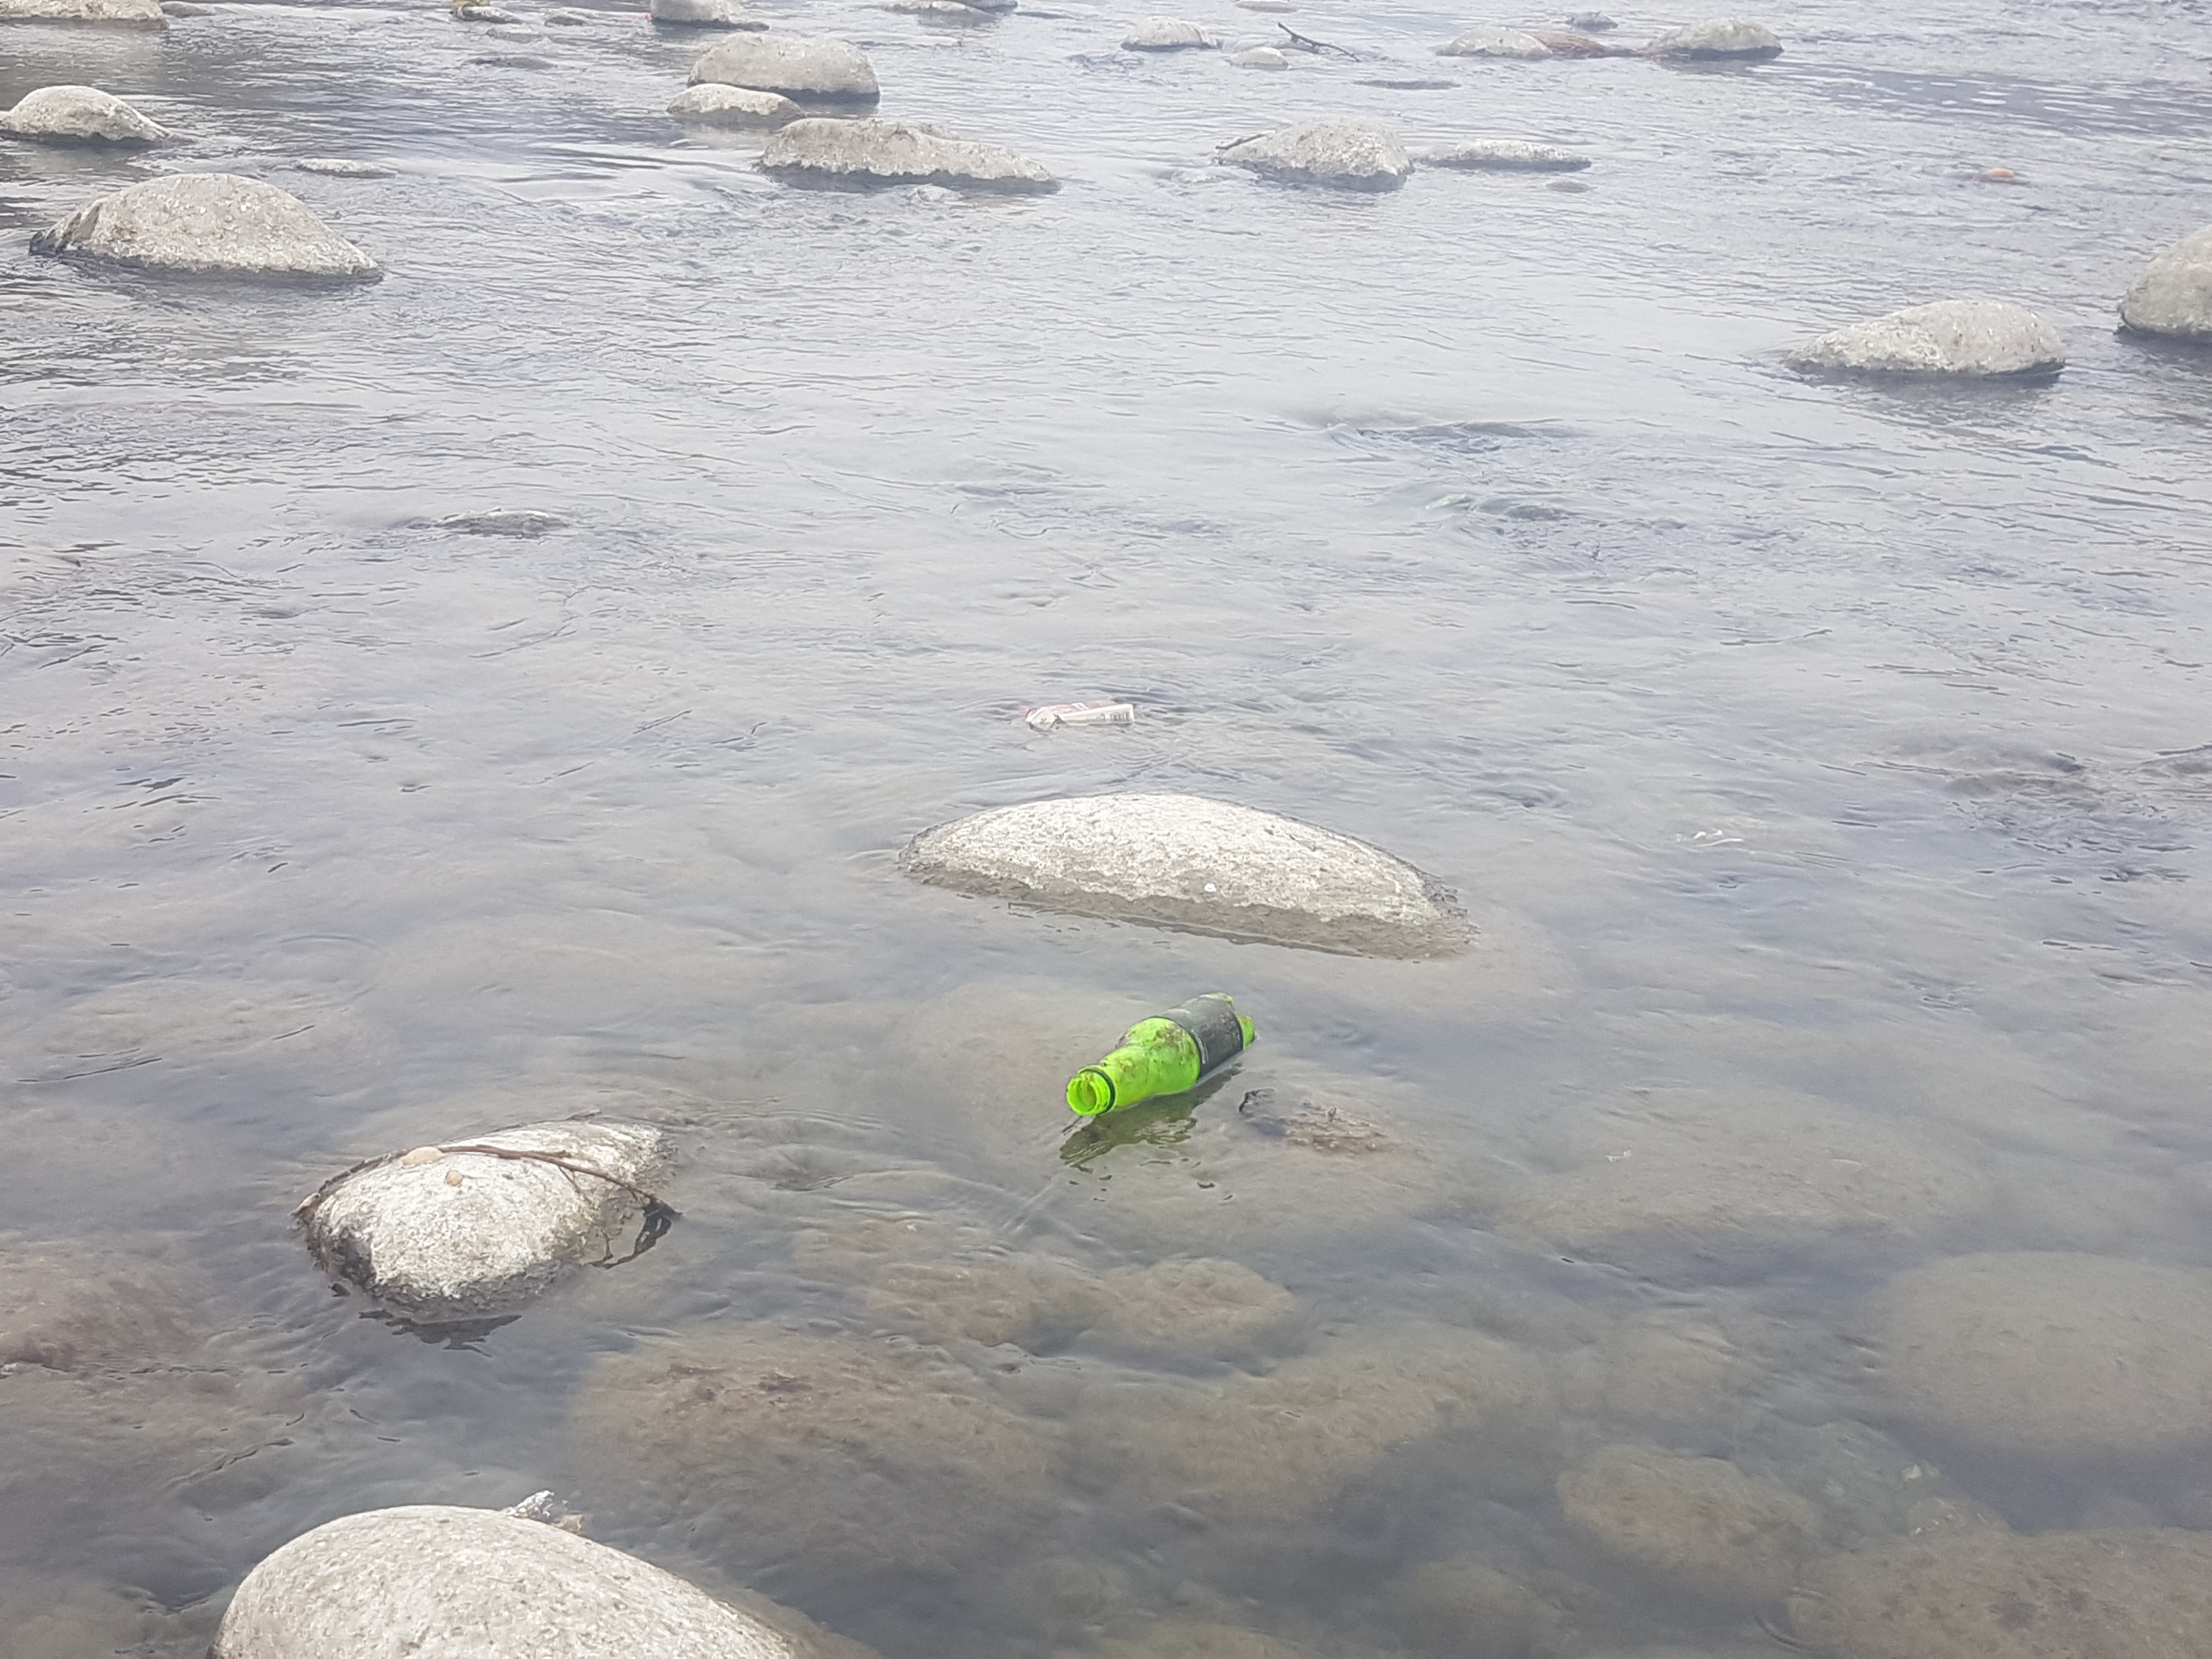Plastic Bottle: (1068, 993, 1259, 1115)
